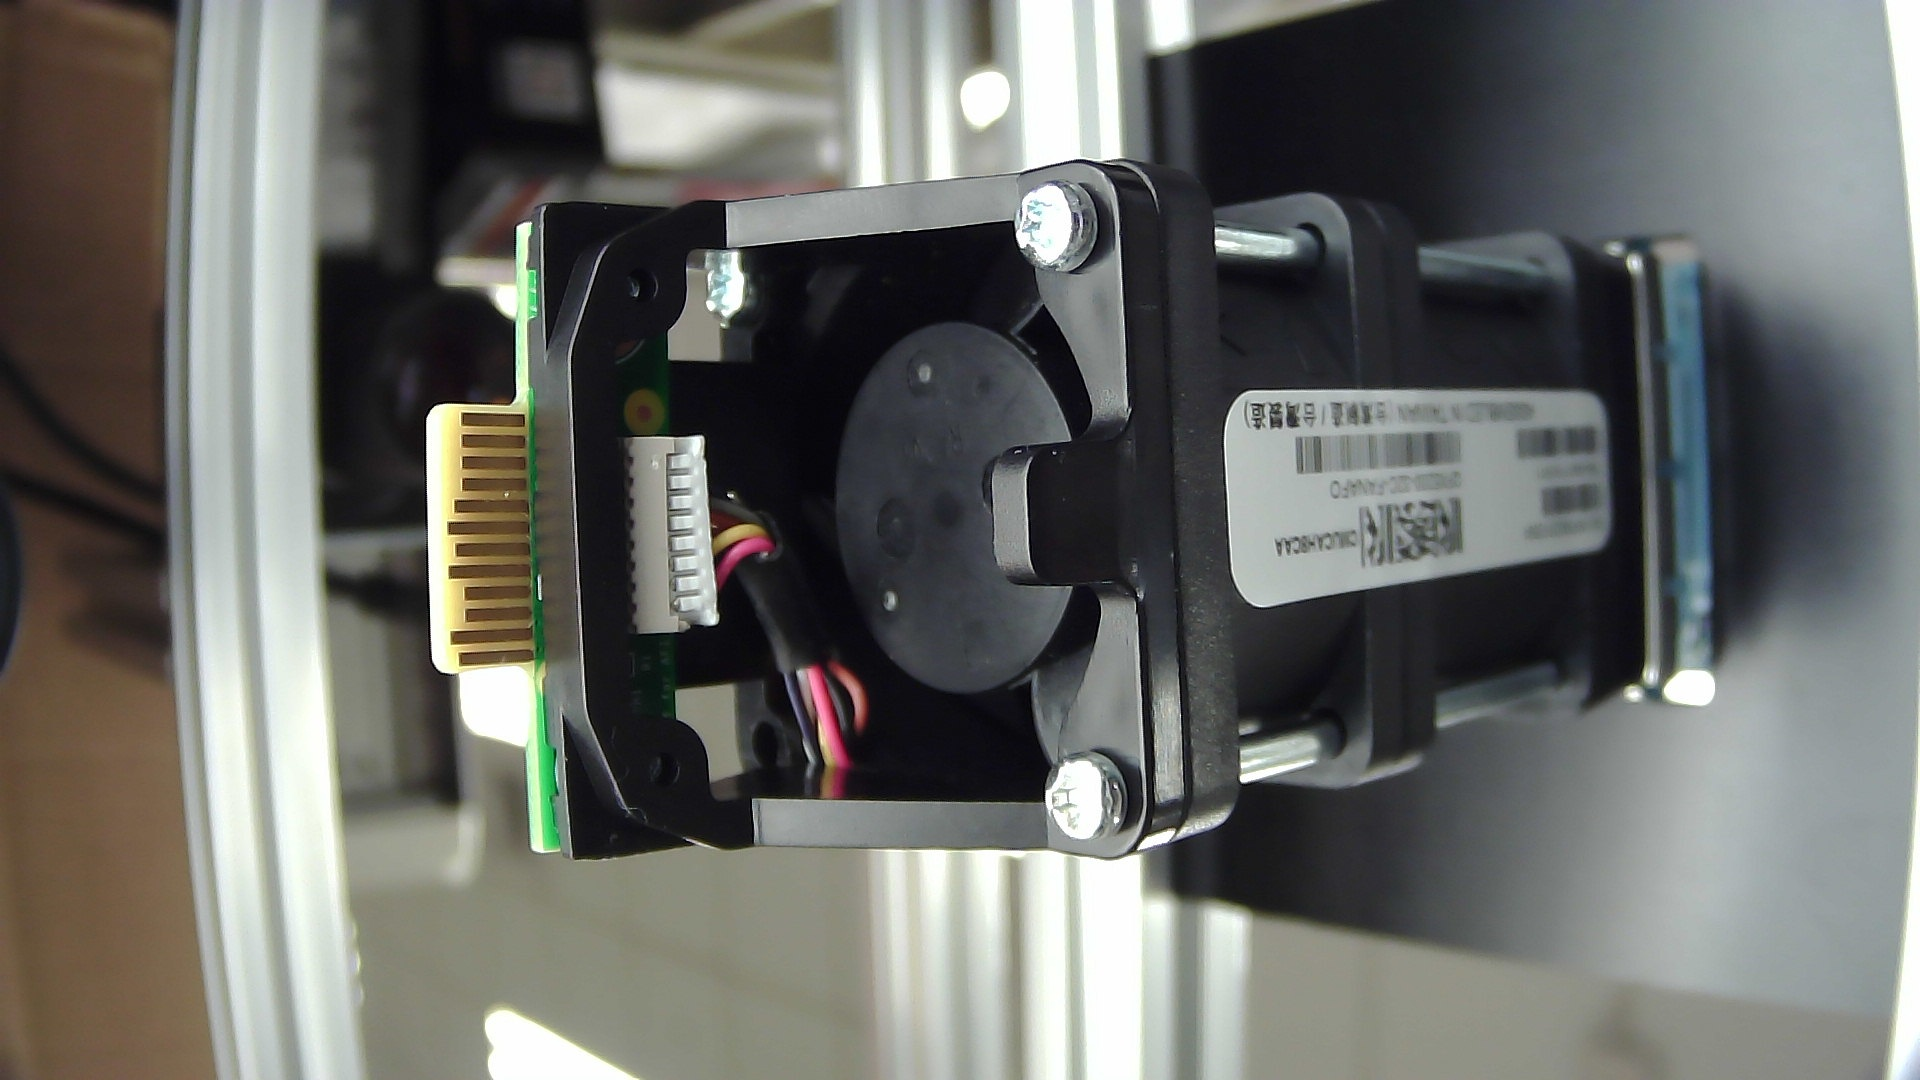8_2: (651, 423, 692, 644)
